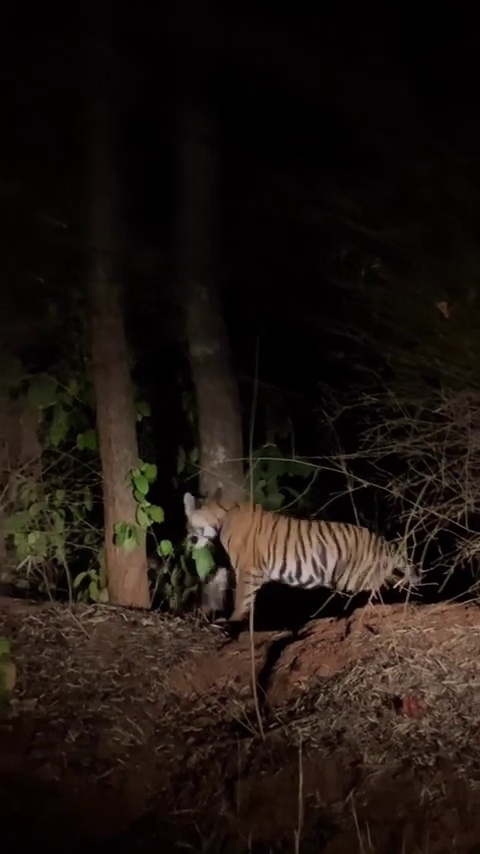Tiger: (182, 492, 417, 623)
